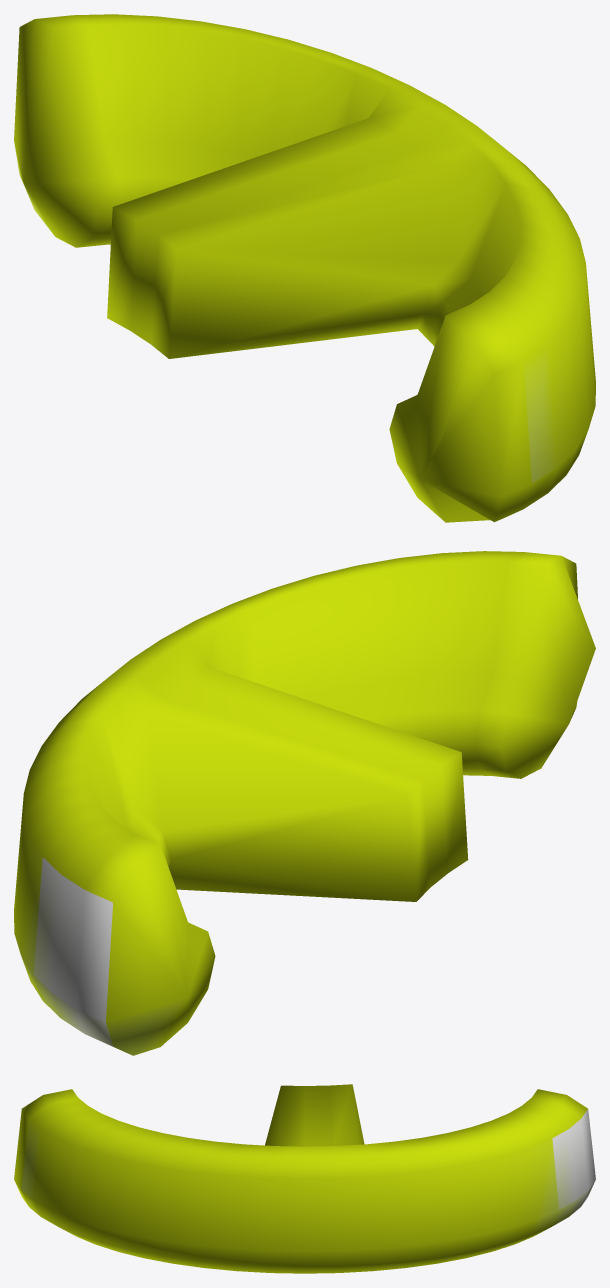
File: BigPlayer.fbx
3 renders of one model, top to bottom at view 1: azimuth 30°, elevation 25°; view 2: azimuth 150°, elevation 25°; view 3: azimuth 270°, elevation 25°, orthographic. The views are drawn at different scales.
Parts seen in each view (by area): view 1: Torus; view 2: Torus; view 3: Torus.
Part boxes in pixels (x1,y1,x2,y2): Torus: (14, 14, 595, 522); Torus: (14, 551, 595, 1055); Torus: (14, 1084, 595, 1273).
Size of the model in its own units: 1.58 by 0.8711 by 3.72.
